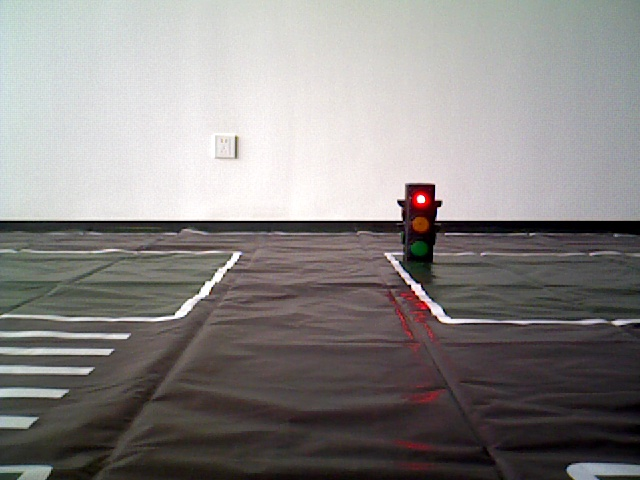red: (405, 185, 434, 258)
